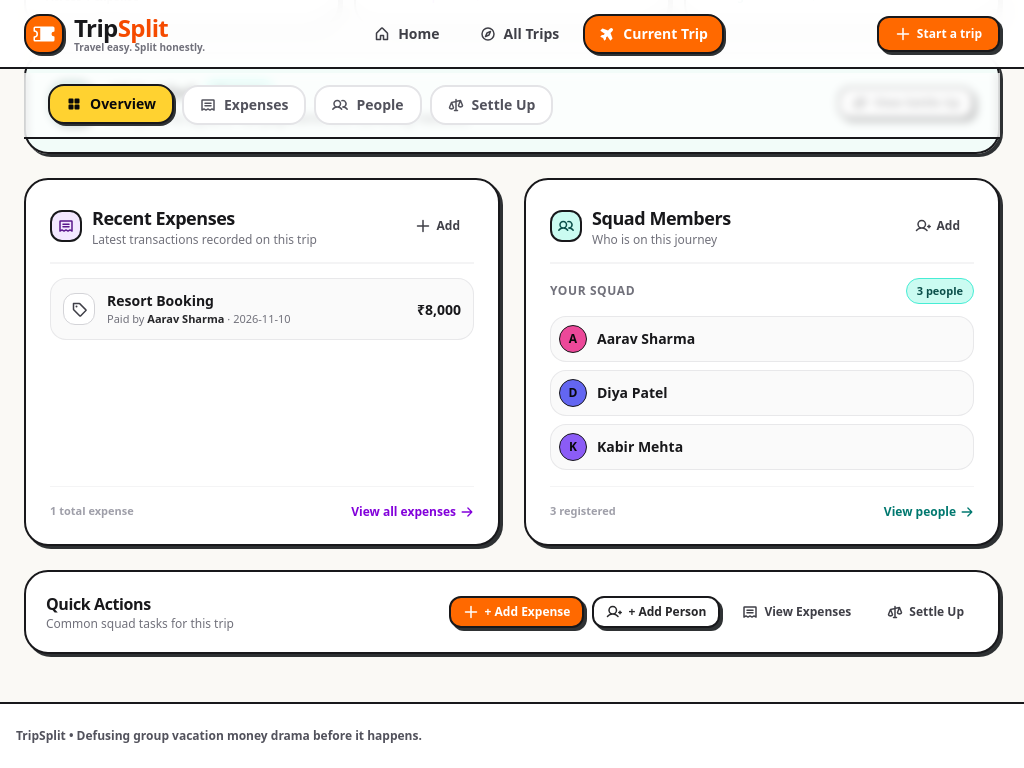
Test: Trip Dashboard & Financial Integration Tests (Step 7) › 10. clicking "View all expenses" navigates to the expenses tab
(page scrolled)
Click the link "View all expenses": (413, 512) top-left (351, 504), bottom-right (474, 520)
(page scrolled)
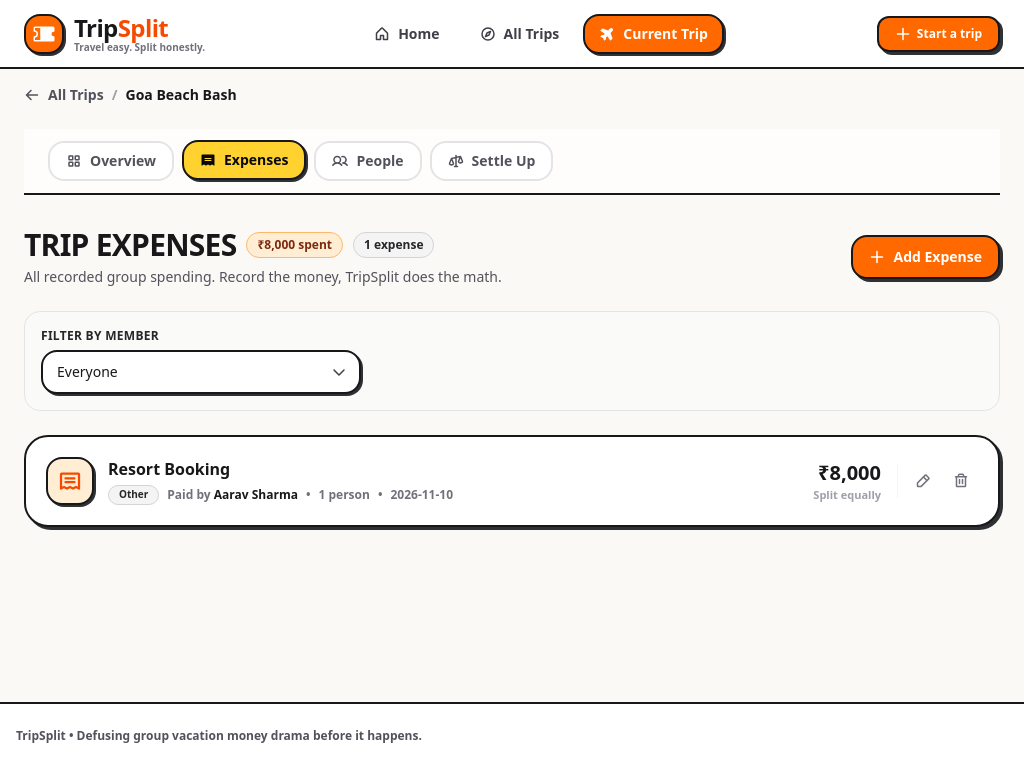
Expected: the heading "Trip Expenses" is shown, top-left (24, 227), bottom-right (236, 263)
